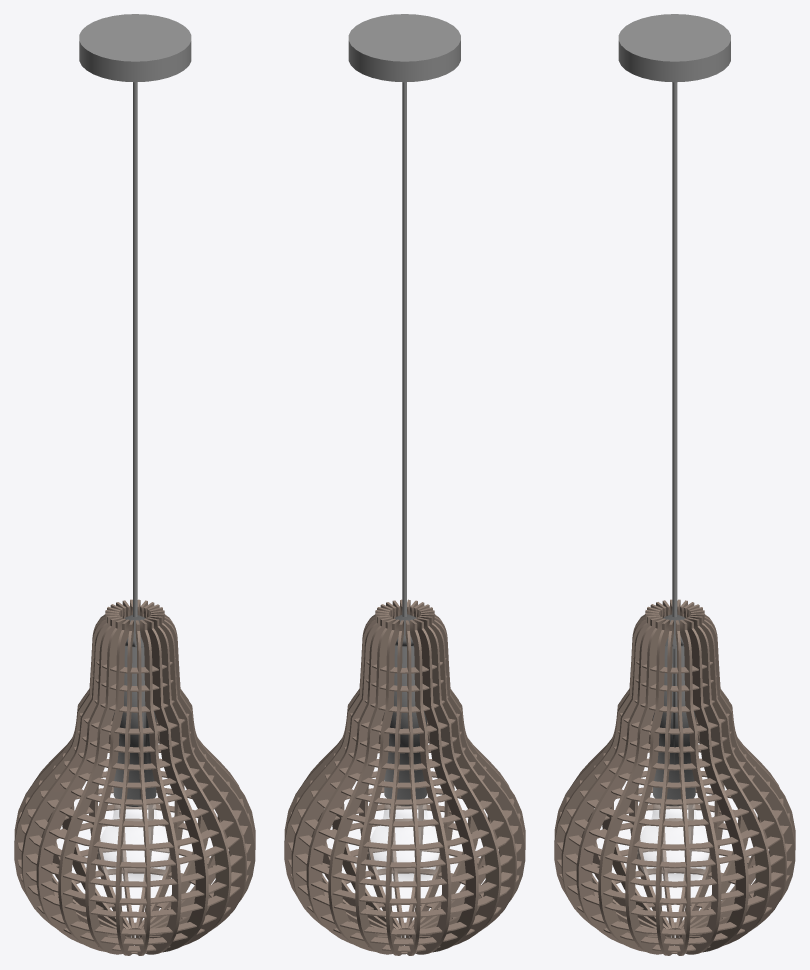
3 views of the same model, side by side, from view 1: azimuth 30°, elevation 25°; view 2: azimuth 150°, elevation 25°; view 3: azimuth 270°, elevation 25° (orthographic).
Visible parts, largest first — view 1: 0b4104839ae511cb6e4beca6603566331847b6a4 > > root > (×4); view 2: 0b4104839ae511cb6e4beca6603566331847b6a4 > > root > (×4); view 3: 0b4104839ae511cb6e4beca6603566331847b6a4 > > root > (×4).
Part boxes in pixels (<box>): 0b4104839ae511cb6e4beca6603566331847b6a4 > > root > (×4): <box>14,14,255,955</box>; 0b4104839ae511cb6e4beca6603566331847b6a4 > > root > (×4): <box>284,14,525,955</box>; 0b4104839ae511cb6e4beca6603566331847b6a4 > > root > (×4): <box>554,14,795,955</box>.
Bounding box in the file's own units: 0.2629 × 1.09 × 0.2629.
